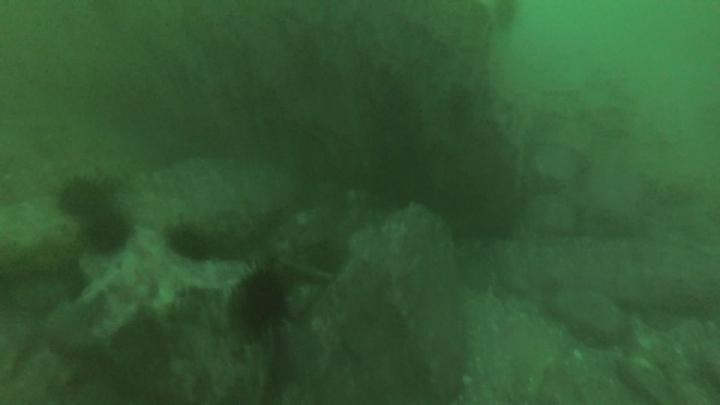echinus: (237, 275, 285, 327), (87, 212, 129, 251), (60, 178, 102, 216), (170, 228, 210, 259)
